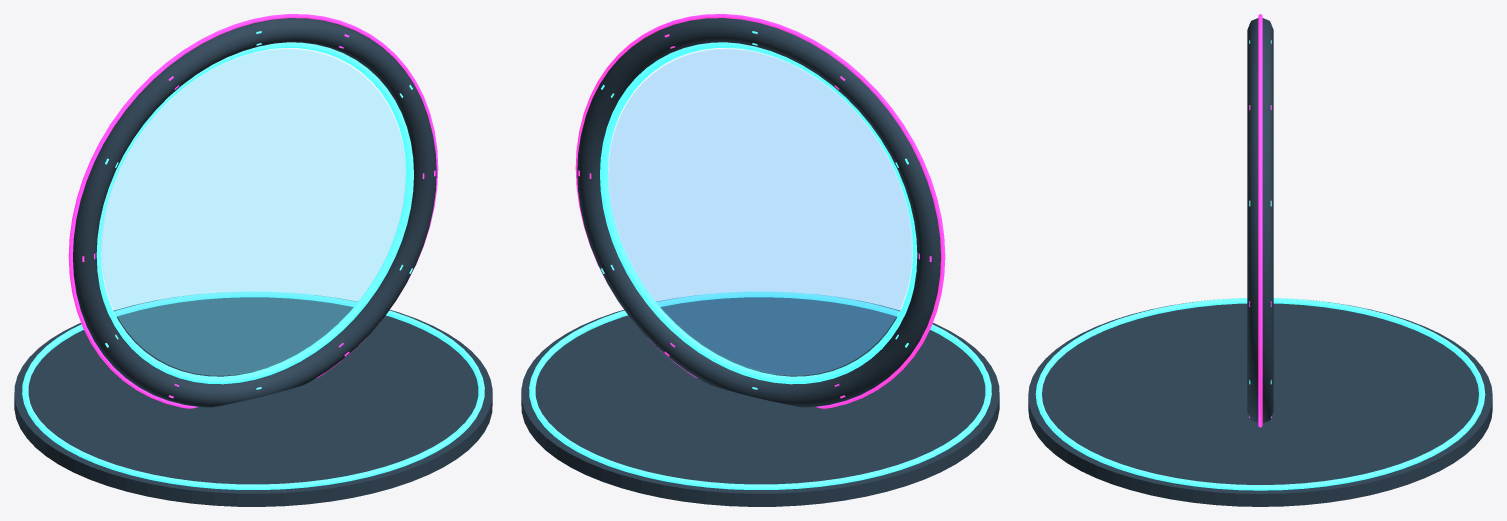
Rendered from racing-portal.glb.
3 views of the same model, side by side, from view 1: azimuth 30°, elevation 25°; view 2: azimuth 150°, elevation 25°; view 3: azimuth 270°, elevation 25° (orthographic). The views are drawn at different scales.
Parts seen in each view (by area): view 1: portal-membrane, portal-pedestal, portal-frame, portal-energy, portal-ground-rune, portal-outer-light; view 2: portal-membrane, portal-pedestal, portal-frame, portal-energy, portal-ground-rune, portal-outer-light; view 3: portal-pedestal, portal-frame, portal-ground-rune, portal-outer-light.
Boxes of the visible parts, bbox=[...] form: portal-membrane: bbox=[101, 49, 405, 375]; portal-pedestal: bbox=[14, 294, 492, 506]; portal-frame: bbox=[73, 18, 436, 407]; portal-energy: bbox=[96, 42, 413, 384]; portal-ground-rune: bbox=[22, 291, 484, 489]; portal-outer-light: bbox=[68, 14, 438, 408]; portal-membrane: bbox=[608, 49, 912, 375]; portal-pedestal: bbox=[521, 294, 999, 506]; portal-frame: bbox=[577, 18, 940, 407]; portal-energy: bbox=[600, 42, 917, 384]; portal-ground-rune: bbox=[529, 291, 991, 489]; portal-outer-light: bbox=[575, 14, 945, 408]; portal-pedestal: bbox=[1028, 300, 1492, 506]; portal-frame: bbox=[1247, 18, 1273, 423]; portal-ground-rune: bbox=[1035, 298, 1485, 490]; portal-outer-light: bbox=[1258, 14, 1262, 427].
Bounding box in the file's own units: 5.24 × 4.67 × 5.24.
